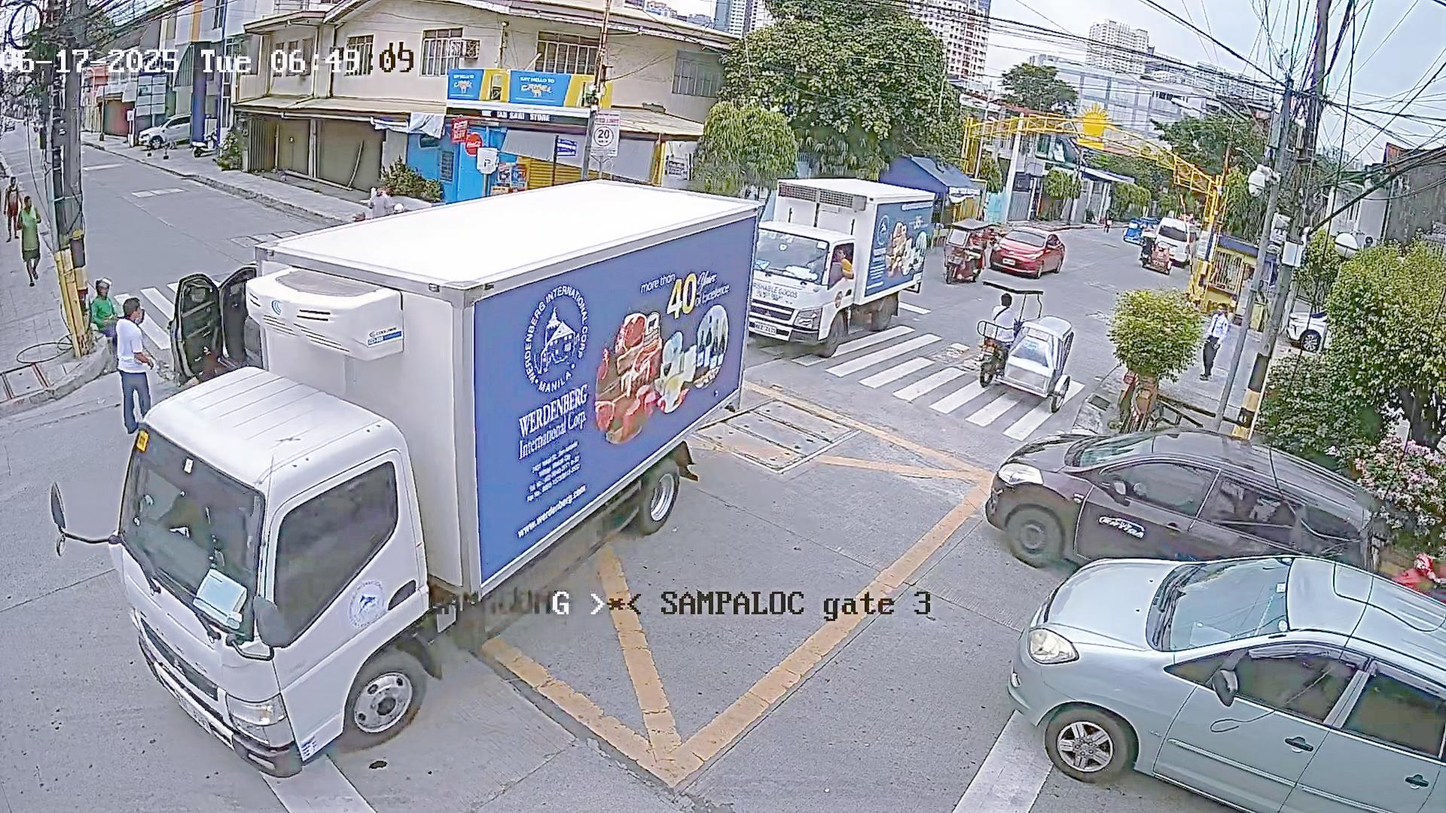Car: (78, 165, 812, 781), (952, 503, 1446, 813), (950, 386, 1428, 589), (725, 169, 935, 347), (975, 200, 1095, 285)
